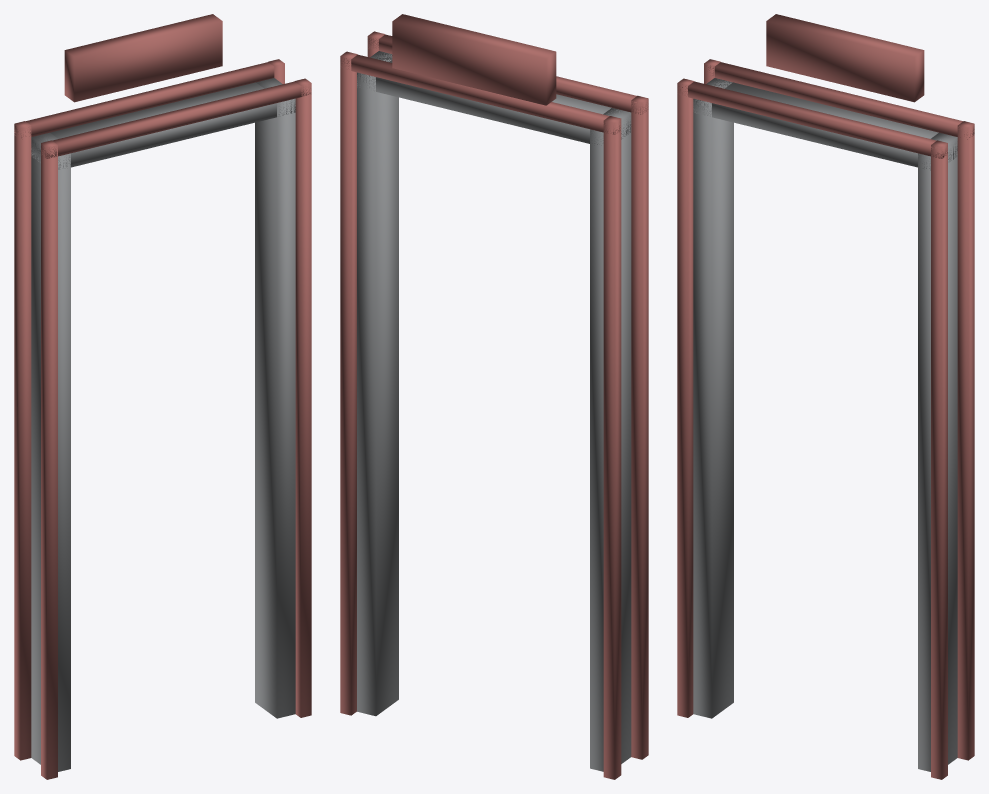
Rendered from doorway_emergency_exit_w86_h240_d16.glb.
3 views of the same model, side by side, from view 1: azimuth 30°, elevation 25°; view 2: azimuth 150°, elevation 25°; view 3: azimuth 330°, elevation 25° (orthographic). The views are drawn at different scales.
Visible parts, largest first — view 1: world; view 2: world; view 3: world.
Boxes of the visible parts, box(x1,y1,x2,y2) form: world: box(14, 14, 311, 779); world: box(340, 14, 648, 779); world: box(677, 14, 974, 779).
Size of the model in its own units: 1.1 by 2.74 by 0.2932.
